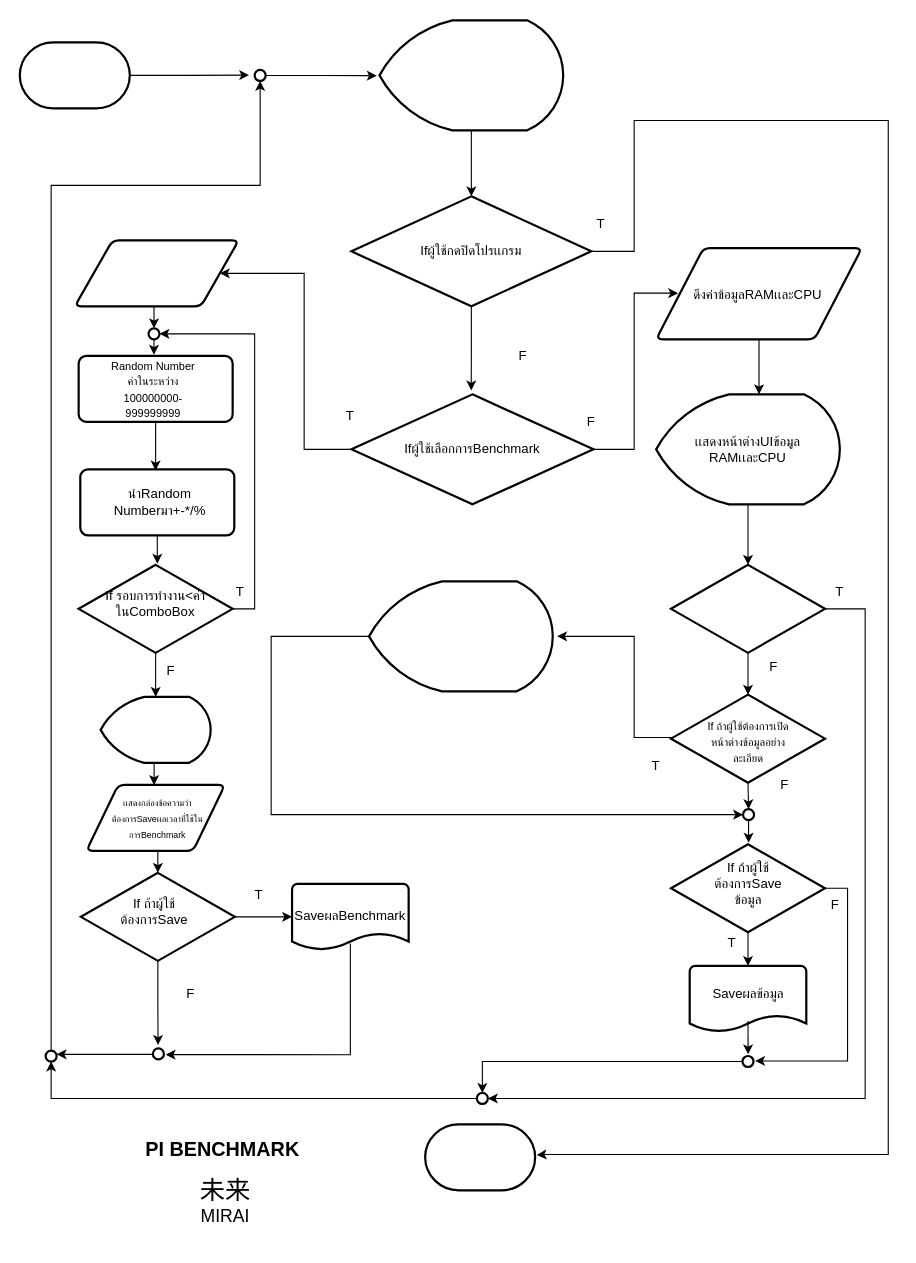
Image size: 916x1263. Some labels were removed from this diagram. Each missing label, with the centre of its shape:
"END" goes at point (480, 1157).
"If ถ้าผู้ใช้ต้อง ปิดการหน้าต่าง ข้อมูล" goes at point (747, 608).
"Start" goes at point (74, 75).
"รับตัวเลือกค่าในComboBoxมาคำนวณค่าPI" goes at point (156, 273).
"เเสดงระยะเวลาที่ใช้ในการคำนวณ" goes at point (155, 729).
"เเสดงหน้าต่างUI" goes at point (471, 75).
"เเสดงหน้าต่างUIข้อมูล อย่างละเอียดของ RAMเเละCPU" goes at point (460, 636).
